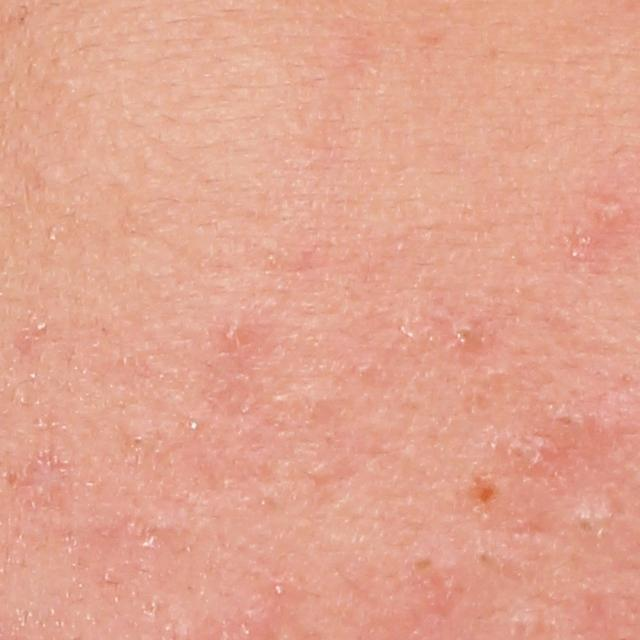comedo: (577, 513, 600, 540), (125, 433, 146, 454)
